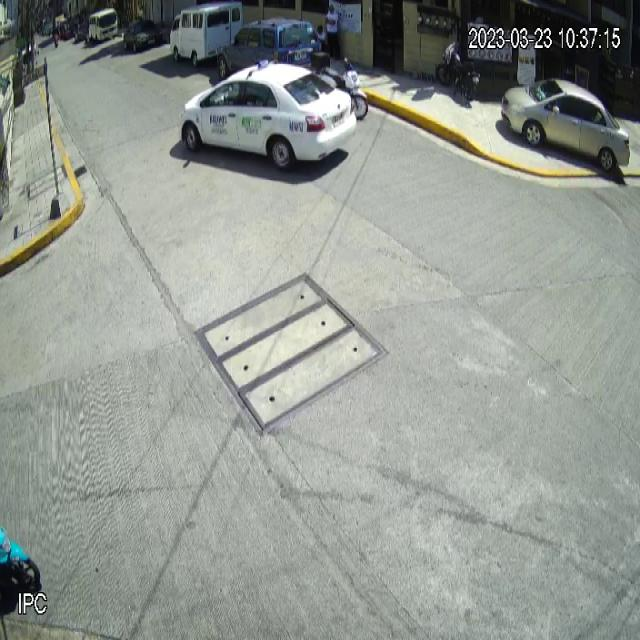Car: (179, 58, 358, 174), (501, 79, 631, 172)
Van: (170, 0, 243, 67)
